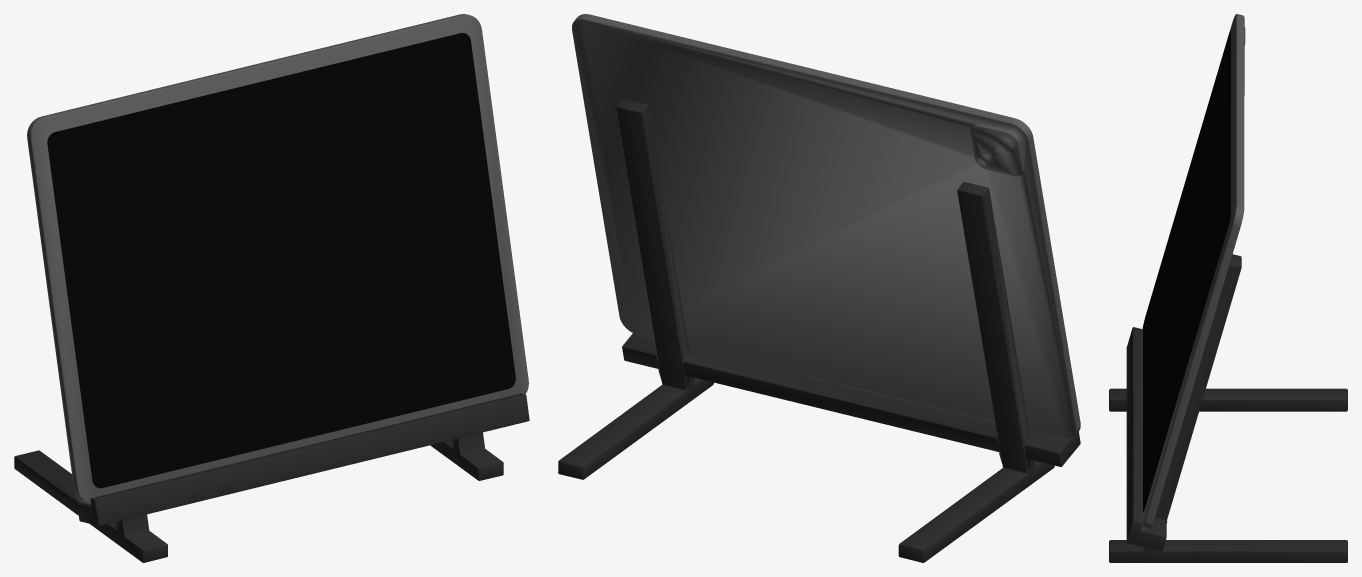
File: sonde.mobile.glb
3 renders of one model, left to right at view 1: azimuth 30°, elevation 25°; view 2: azimuth 150°, elevation 25°; view 3: azimuth 270°, elevation 25°, orthographic. The views are drawn at different scales.
Parts seen in each view (by area): view 1: screen, tablet, easel; view 2: tablet, easel; view 3: screen, easel, tablet.
Boxes of the visible parts, left/top/right/bottom form: screen: left=47, top=33, right=515, bottom=488; tablet: left=27, top=14, right=528, bottom=504; easel: left=14, top=393, right=529, bottom=562; tablet: left=572, top=14, right=1080, bottom=438; easel: left=558, top=98, right=1080, bottom=562; screen: left=1143, top=31, right=1230, bottom=511; easel: left=1109, top=254, right=1347, bottom=562; tablet: left=1141, top=14, right=1245, bottom=529.
Bounding box in the file's own units: 0.2821 × 0.2405 × 0.14.
3 materials, 1 textured.
